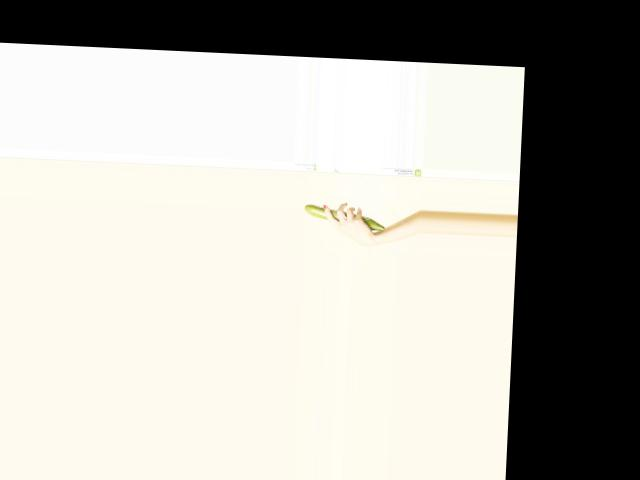cucumber: (303, 203, 386, 230)
